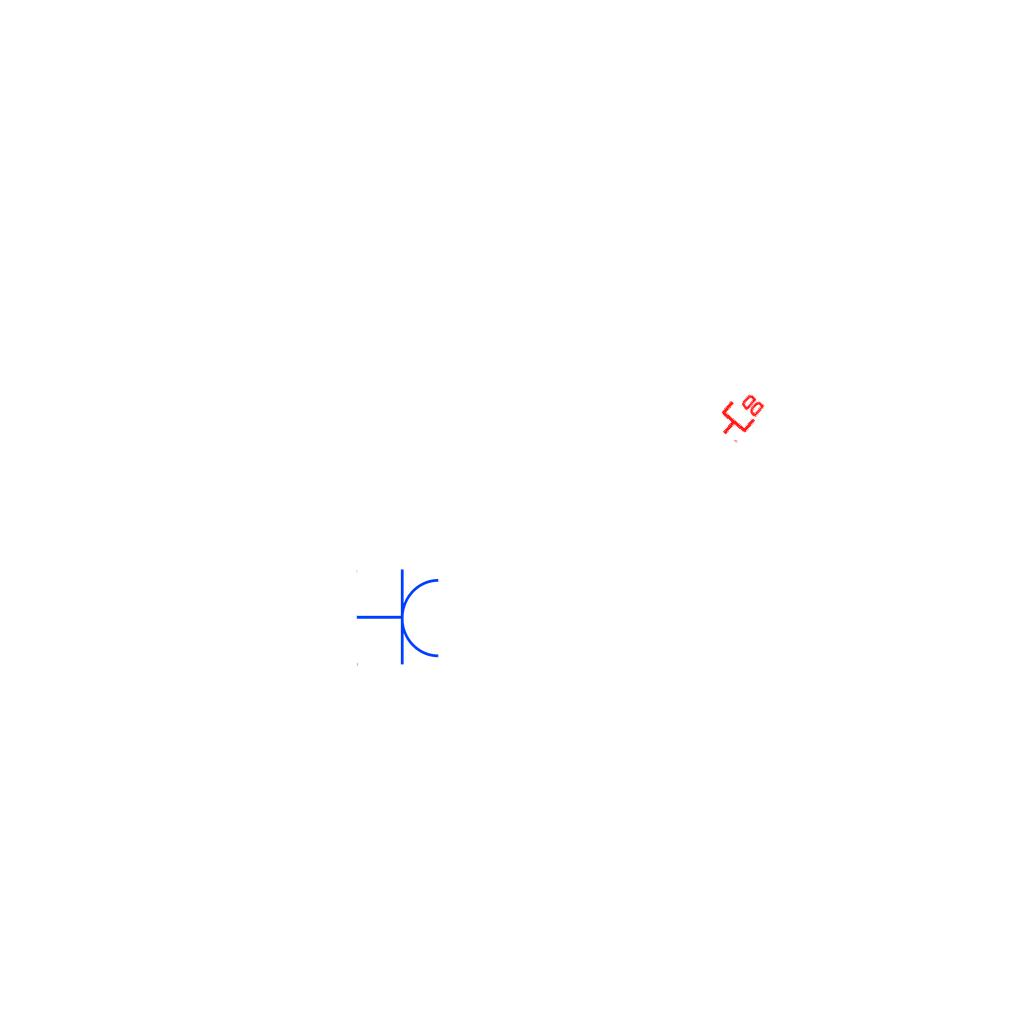Datenanschluss_zweifach: (709, 384, 769, 445)
Schukosteckdose_einfach: (356, 568, 443, 668)
